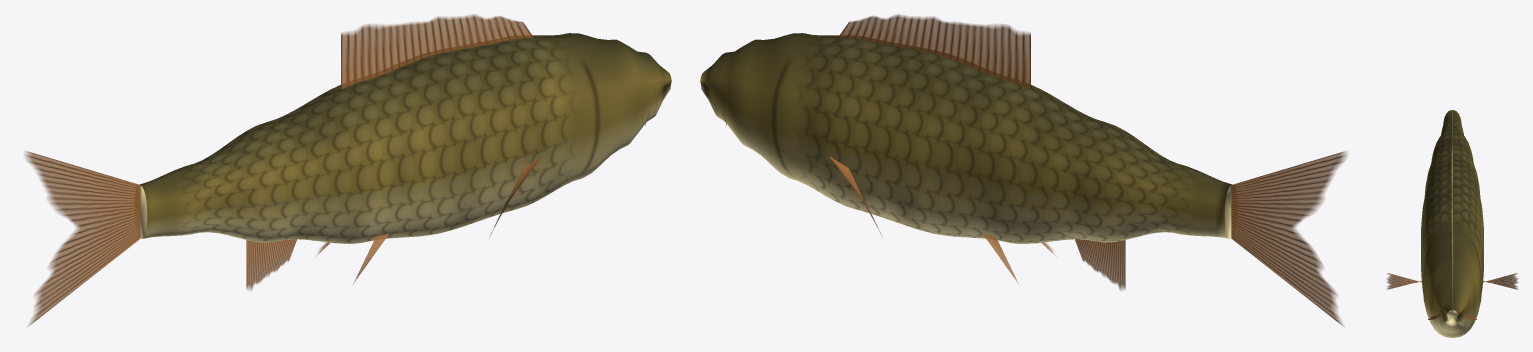
Rendered from sazan.glb.
3 renders of one model, left to right at view 1: azimuth 30°, elevation 25°; view 2: azimuth 150°, elevation 25°; view 3: azimuth 270°, elevation 25°, orthographic. The views are drawn at different scales.
Visible parts, largest first — view 1: sazan; view 2: sazan; view 3: sazan.
Boxes of the visible parts, x1,y1,x2,y2 form: sazan: [24, 14, 671, 326]; sazan: [700, 14, 1347, 326]; sazan: [1386, 110, 1518, 337].
Size of the model in its own units: 0.62 by 0.2228 by 0.1483.
1 material, 1 textured.
